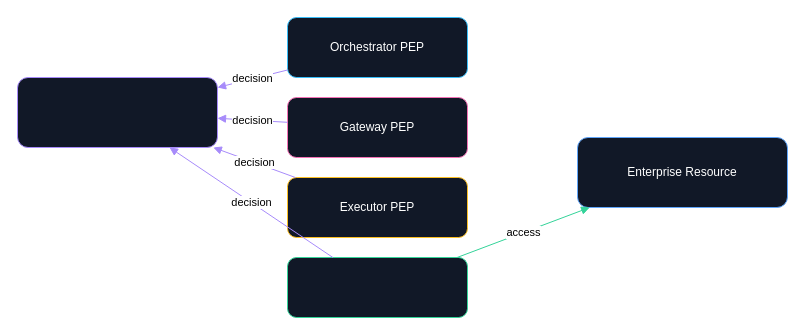
Image size: 805x335. Some labels were removed from this diagram. Here are the shapes that lost their labels. From the top down, the centre of each, then its label:
[117,112]: Policy Decision Point
[377,287]: Tool PEP
